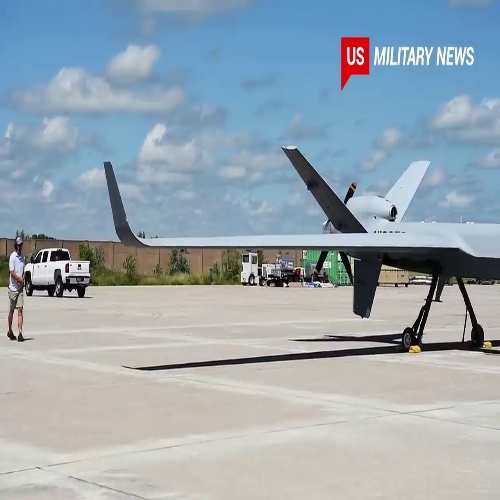uav: (102, 146, 499, 349)
